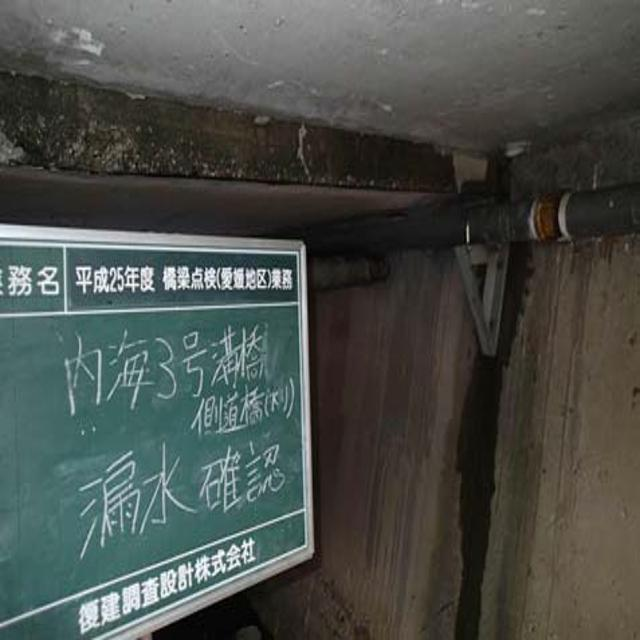leakage: (443, 167, 521, 640)
